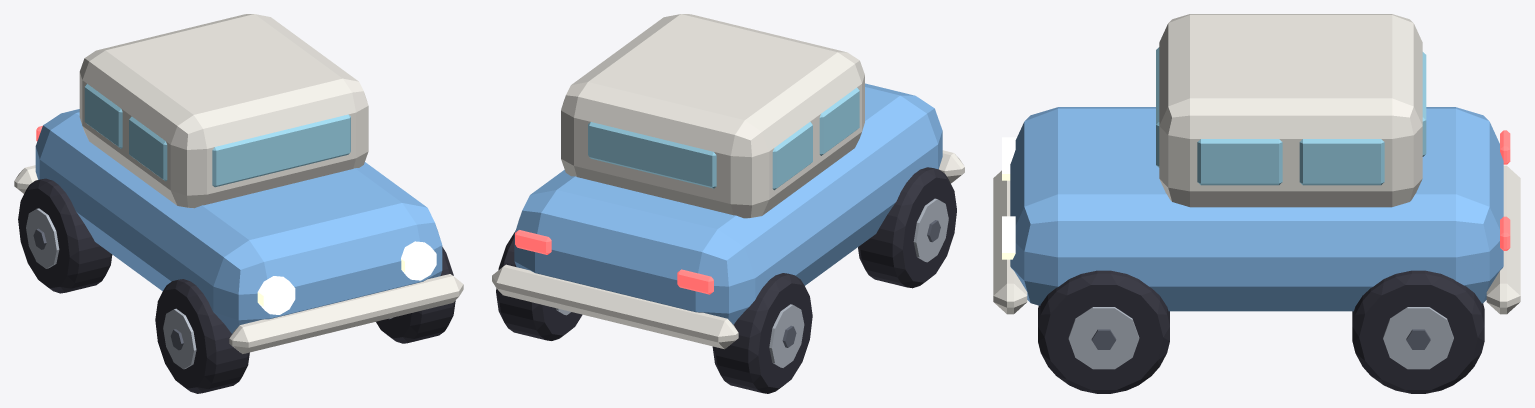
The model's file is veh_car_blue.glb.
The picture shows the model from 3 angles, left to right: view 1: azimuth 30°, elevation 25°; view 2: azimuth 150°, elevation 25°; view 3: azimuth 270°, elevation 25°; orthographic projection. The views are drawn at different scales.
Visible parts, largest first — view 1: veh_car_blue, wheel_fl, wheel_rl, wheel_fr; view 2: veh_car_blue, wheel_rl, wheel_fl, wheel_rr; view 3: veh_car_blue, wheel_rr, wheel_fr.
Boxes of the visible parts, x1,y1,x2,y2 form: veh_car_blue: (14, 14, 463, 353); wheel_fl: (155, 279, 249, 393); wheel_rl: (18, 178, 112, 293); wheel_fr: (376, 247, 455, 343); veh_car_blue: (492, 14, 964, 349); wheel_rl: (712, 273, 812, 393); wheel_fl: (858, 167, 956, 288); wheel_rr: (496, 231, 582, 340); veh_car_blue: (993, 14, 1520, 314); wheel_rr: (1352, 270, 1484, 393); wheel_fr: (1038, 270, 1169, 393).
Size of the model in its own units: 2.02 by 1.76 by 3.1.
